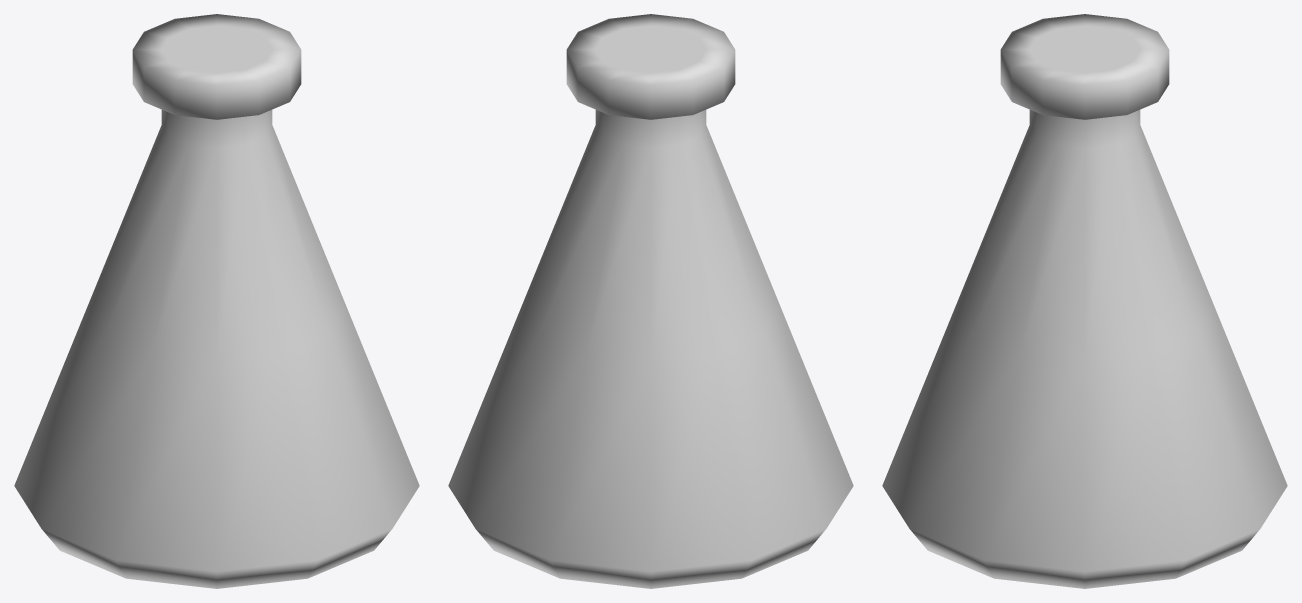
File: Flask_Colored_02.fbx
3 renders of one model, left to right at view 1: azimuth 30°, elevation 25°; view 2: azimuth 150°, elevation 25°; view 3: azimuth 270°, elevation 25°, orthographic.
Visible parts, largest first — view 1: Flask; view 2: Flask; view 3: Flask.
Boxes of the visible parts, x1,y1,x2,y2 form: Flask: [14, 14, 419, 588]; Flask: [448, 14, 853, 588]; Flask: [882, 14, 1287, 588].
Size of the model in its own units: 55.69 by 70.1 by 55.69.
